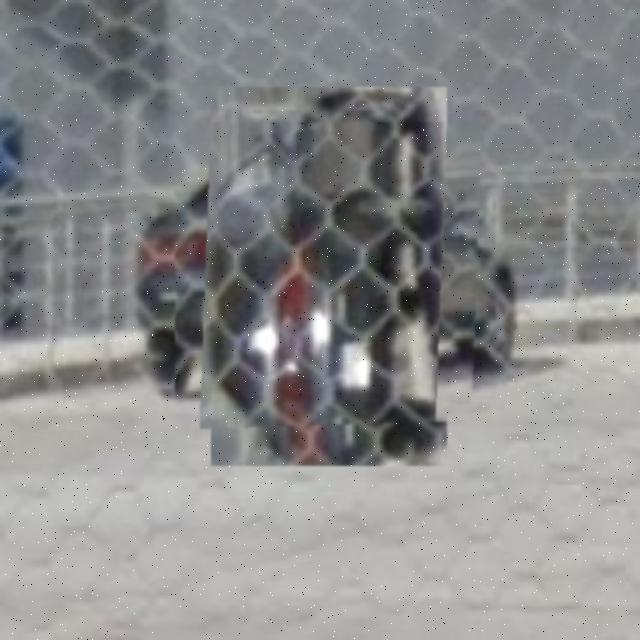car: (176, 123, 484, 431)
